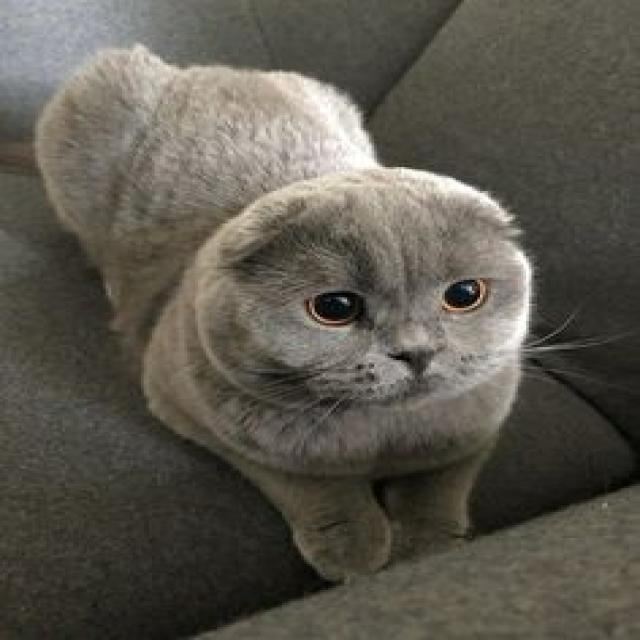da khoe manh: (112, 75, 336, 267)
